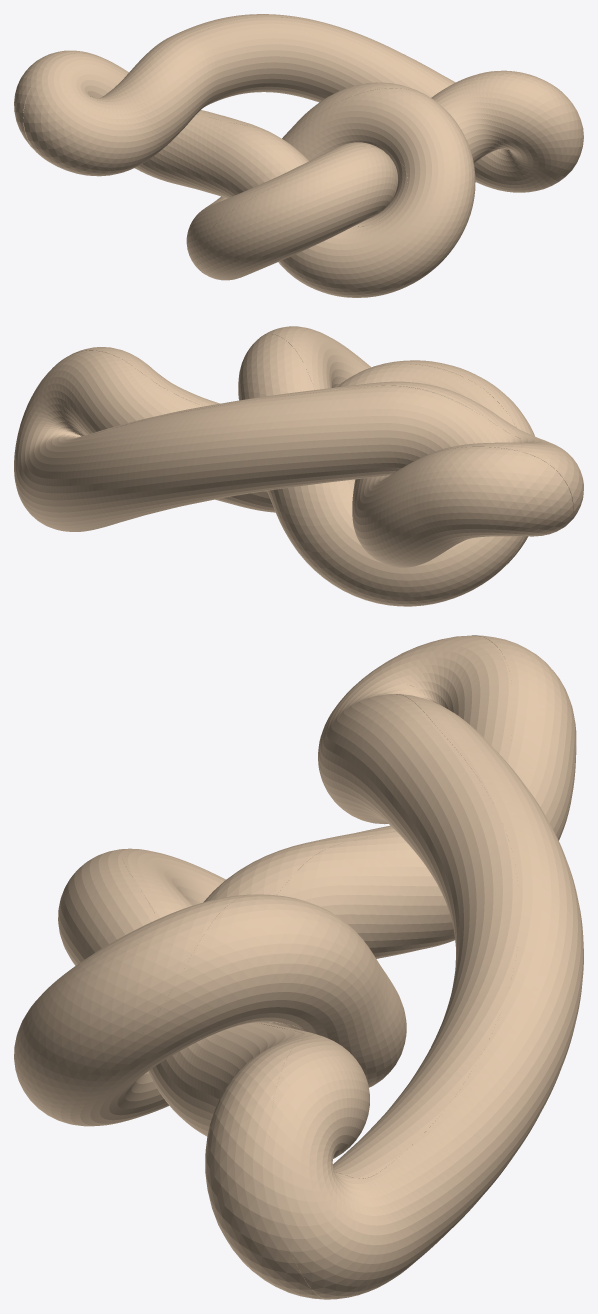
File: gem_519630188.gltf
3 views of the same model, one above another, from view 1: azimuth 30°, elevation 25°; view 2: azimuth 150°, elevation 25°; view 3: azimuth 270°, elevation 25° (orthographic). The views are drawn at different scales.
Bounding box in the file's own units: 2.13 × 0.8478 × 1.27.
